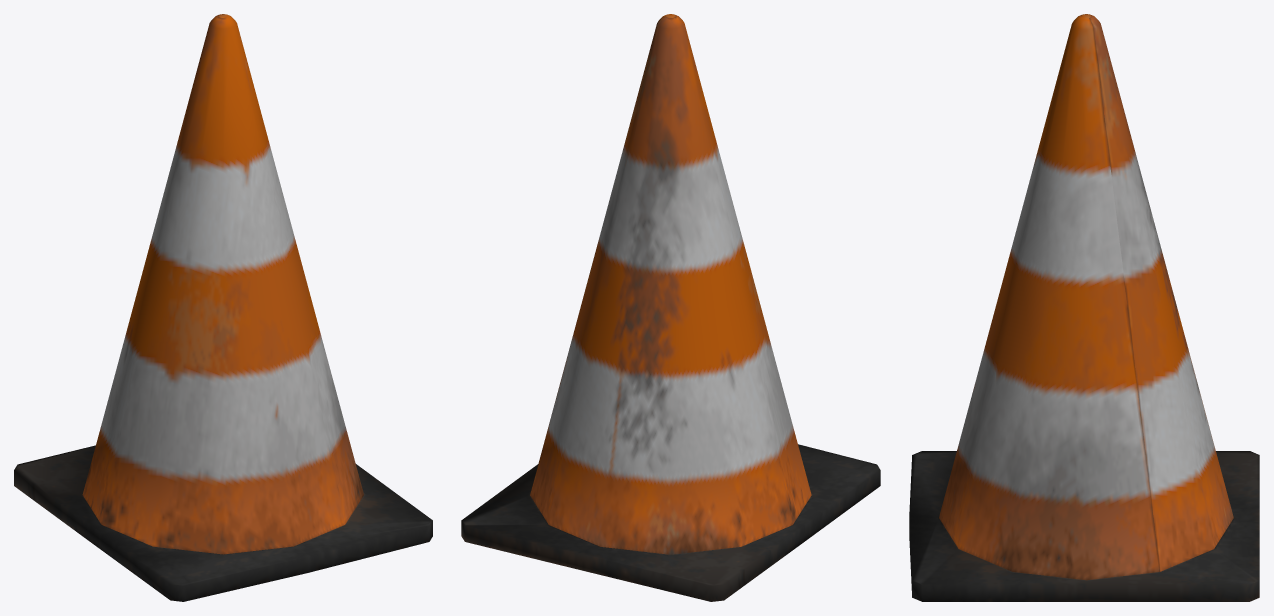
3 renders of one model, left to right at view 1: azimuth 30°, elevation 25°; view 2: azimuth 150°, elevation 25°; view 3: azimuth 270°, elevation 25°, orthographic. The views are drawn at different scales.
Parts seen in each view (by area): view 1: Cone_0; view 2: Cone_0; view 3: Cone_0.
Boxes of the visible parts, <box> form: Cone_0: <box>14,14,432,601</box>; Cone_0: <box>461,14,880,601</box>; Cone_0: <box>909,14,1259,601</box>.
Size of the model in its own units: 2.16 by 3.88 by 2.38.
1 material, 1 textured.
